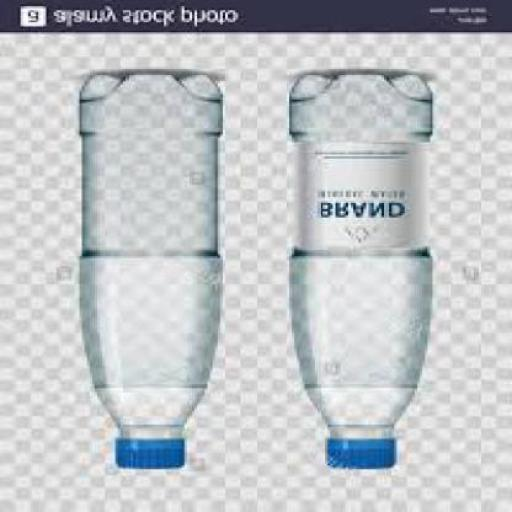plastic: (284, 78, 432, 472), (74, 78, 220, 472), (322, 435, 394, 470), (112, 440, 182, 472)
